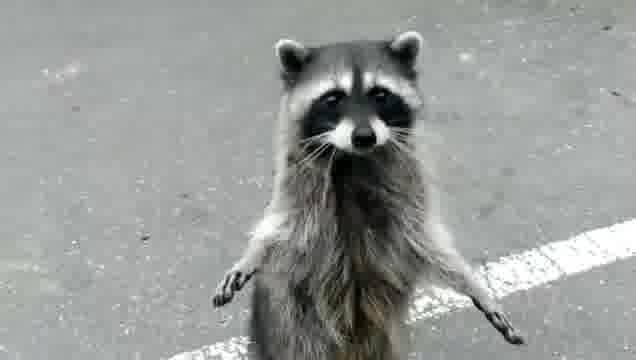raccoon: (210, 27, 529, 360)
